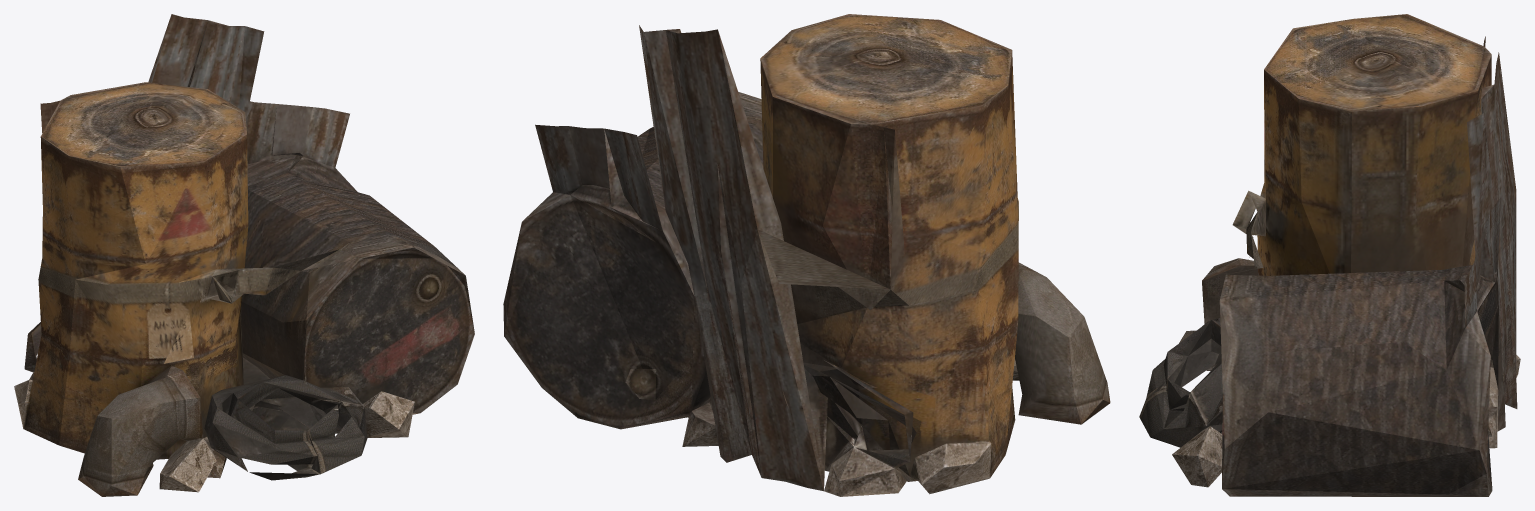
Rendered from scrap.glb.
The picture shows the model from 3 angles, left to right: view 1: azimuth 30°, elevation 25°; view 2: azimuth 150°, elevation 25°; view 3: azimuth 270°, elevation 25°; orthographic projection. The views are drawn at different scales.
Bounding box in the file's own units: 1.88 × 1.63 × 1.48.
Materials: 1 (1 with a texture image).
